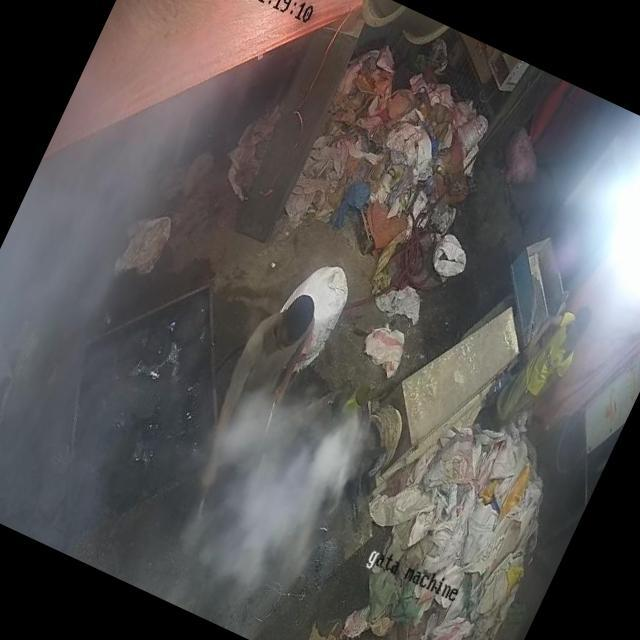person: (192, 280, 332, 492), (491, 286, 599, 439)
